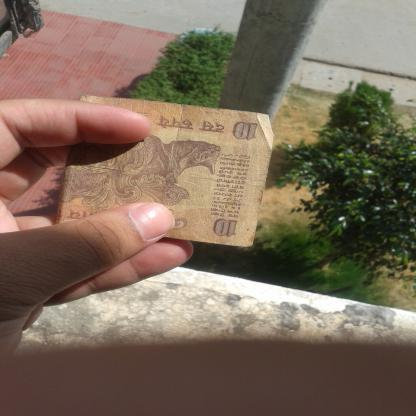Old10Back: (52, 94, 276, 249)
